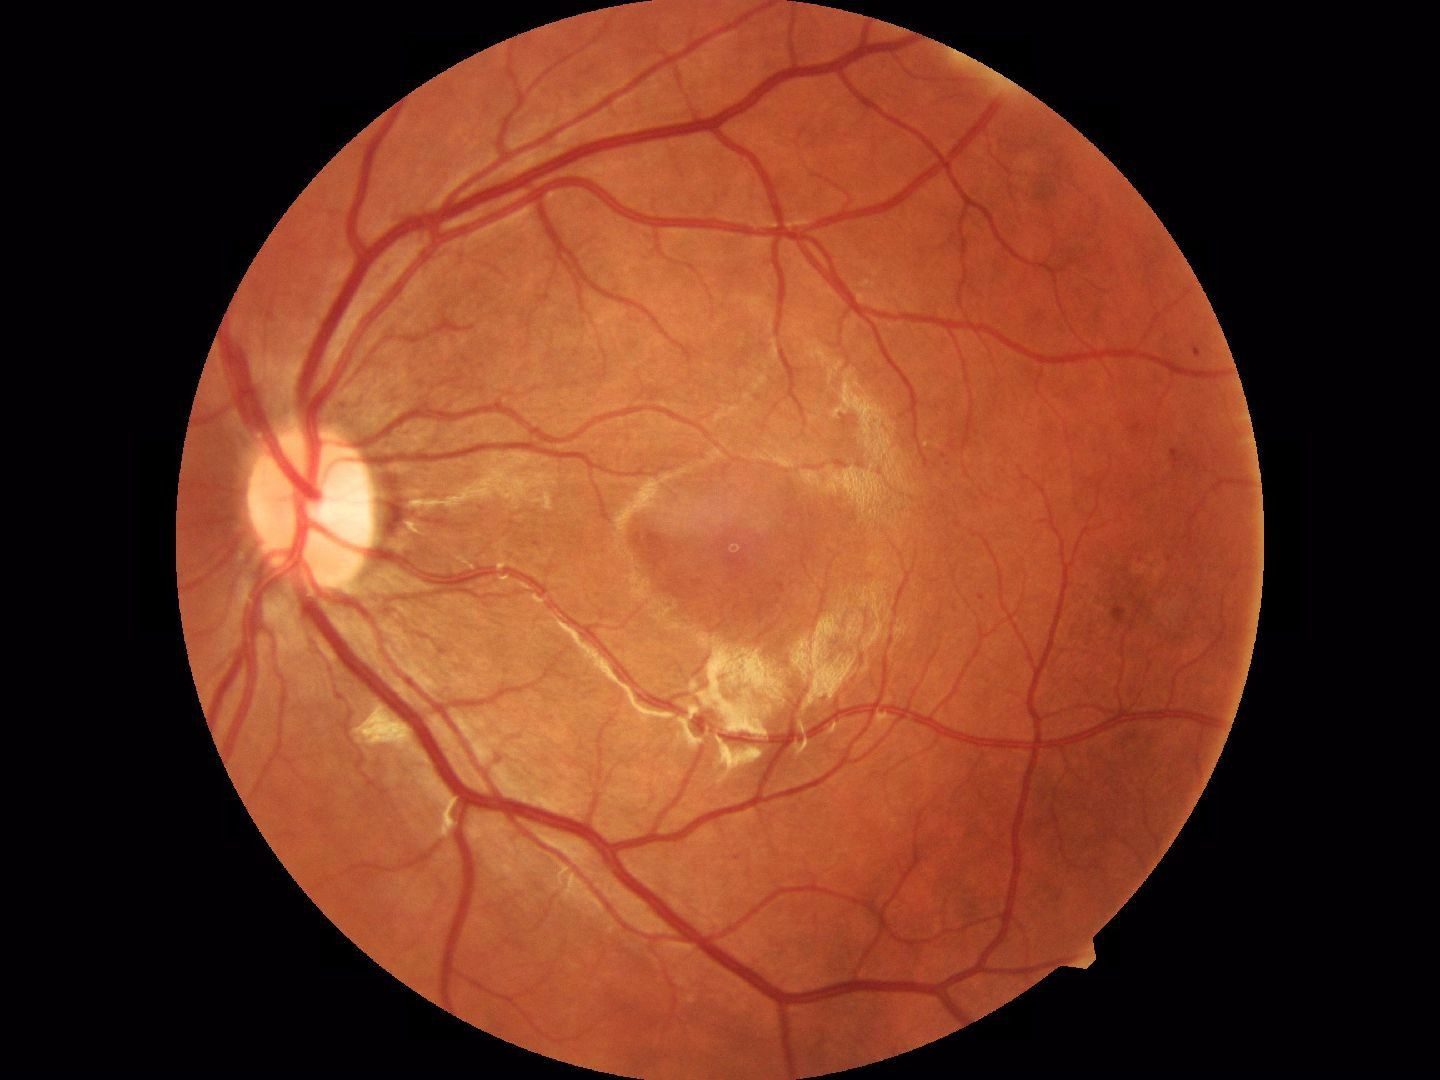Arterioles: (691, 170, 937, 369)
Exudates: (680, 652, 818, 752), (359, 708, 405, 748)
Hemorrhages: (644, 459, 830, 634)
Microaneurysms: (1007, 144, 1077, 219)
Optic-Disc: (228, 416, 404, 585)
Venules: (457, 775, 667, 903), (351, 170, 458, 336)
